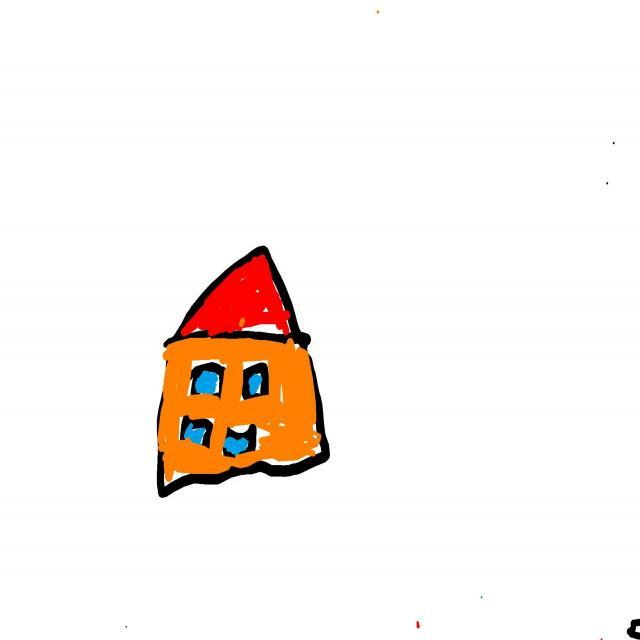house: (157, 247, 329, 498)
roof: (165, 246, 305, 342)
wall: (158, 337, 324, 498)
window: (191, 363, 223, 395), (223, 428, 254, 454), (245, 365, 269, 396), (180, 419, 208, 445)
